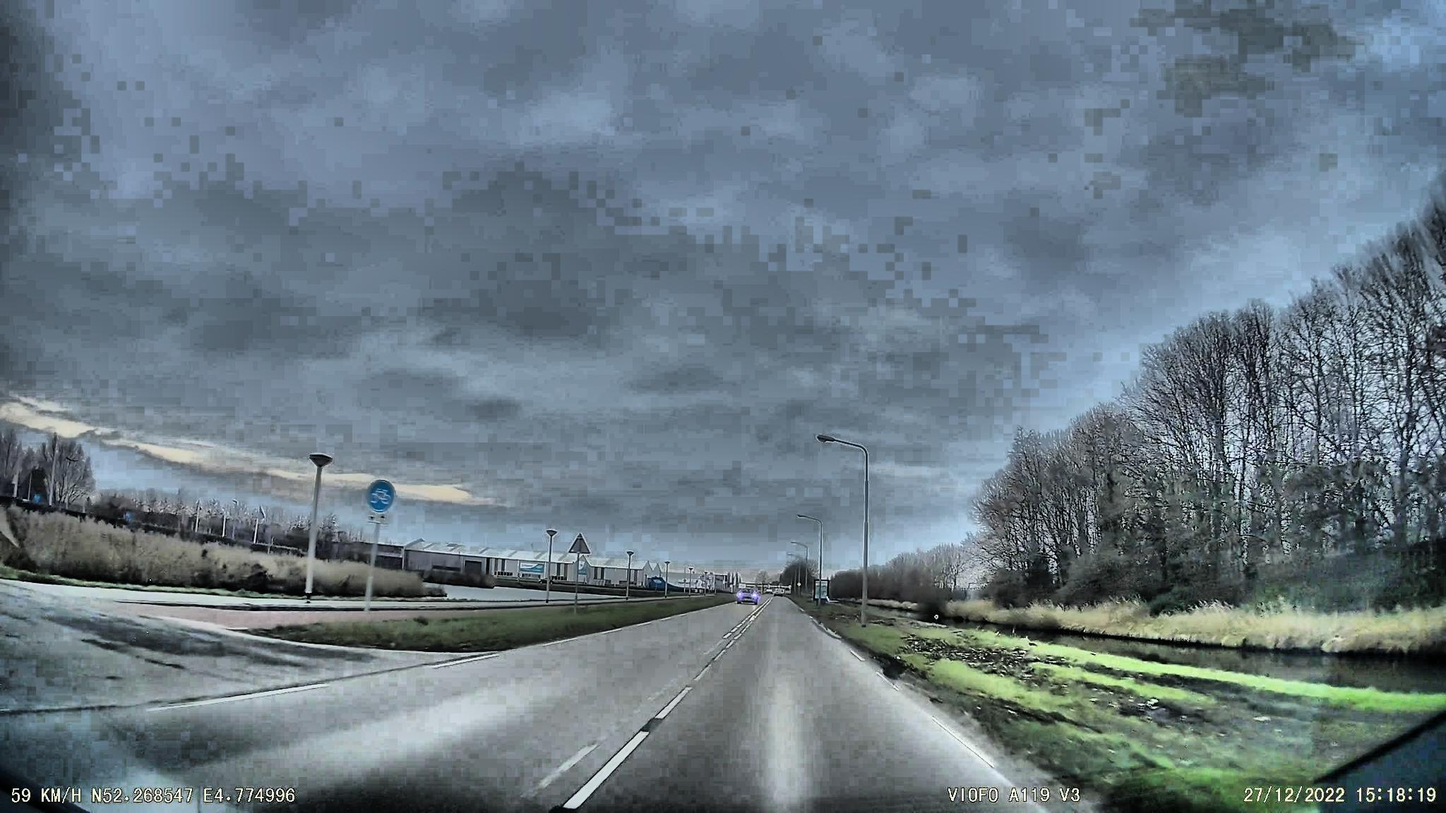Roads: (0, 583, 1112, 813)
